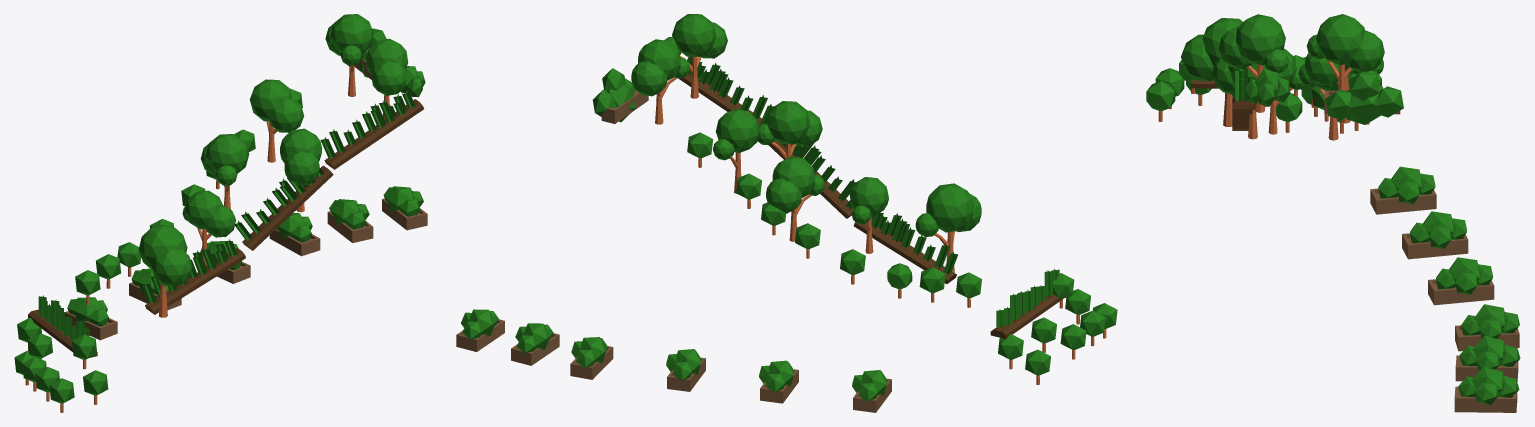
File: solution_26_building_cover_hill.fbx
The picture shows the model from 3 angles, left to right: view 1: azimuth 30°, elevation 25°; view 2: azimuth 150°, elevation 25°; view 3: azimuth 270°, elevation 25°; orthographic projection. The views are drawn at different scales.
Parts seen in each view (by area): view 1: solution_26_building_cover_hill; view 2: solution_26_building_cover_hill; view 3: solution_26_building_cover_hill.
Part boxes in pixels (left/top/right/bottom): solution_26_building_cover_hill: left=14, top=14, right=427, bottom=412; solution_26_building_cover_hill: left=456, top=14, right=1117, bottom=412; solution_26_building_cover_hill: left=1146, top=14, right=1520, bottom=412.
Size of the model in its own units: 4717 by 2451 by 2556.
